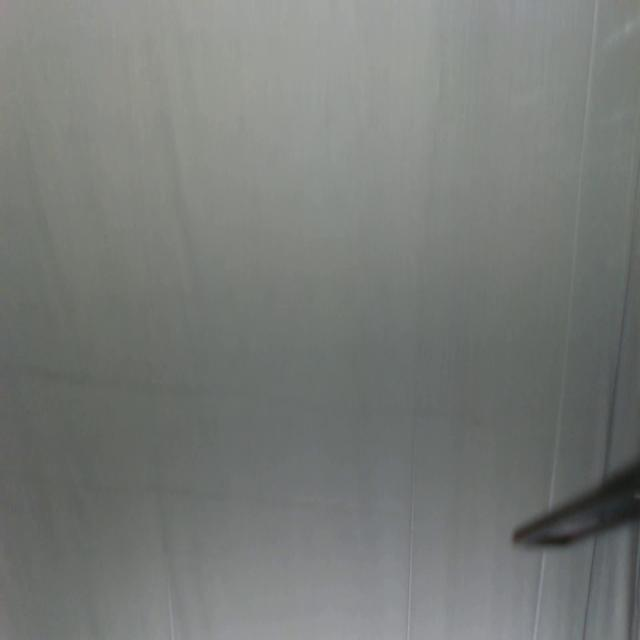crease: (549, 1, 600, 490), (605, 202, 637, 460), (406, 460, 418, 639), (581, 537, 598, 640), (533, 554, 549, 639)
